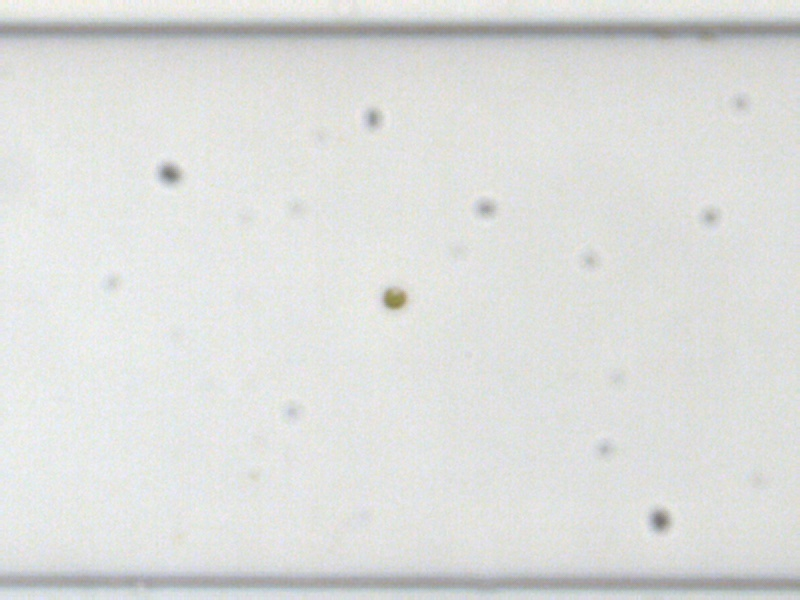Chlorella: (381, 285, 407, 308)
